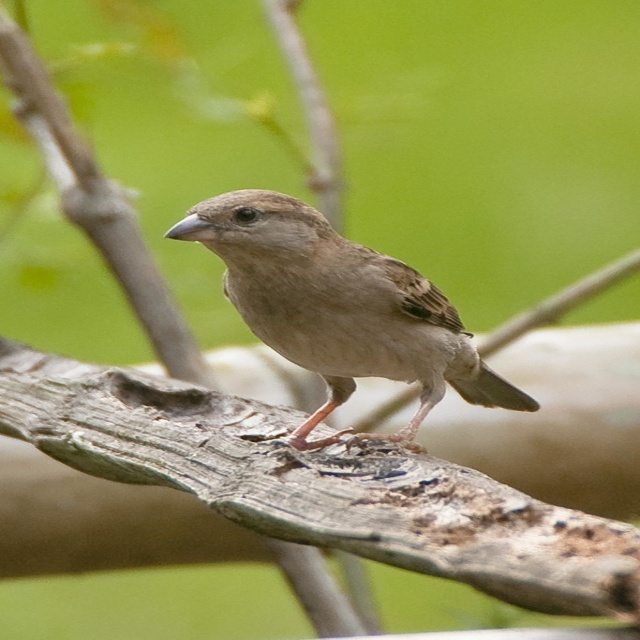Sparrow: (155, 184, 527, 478)
